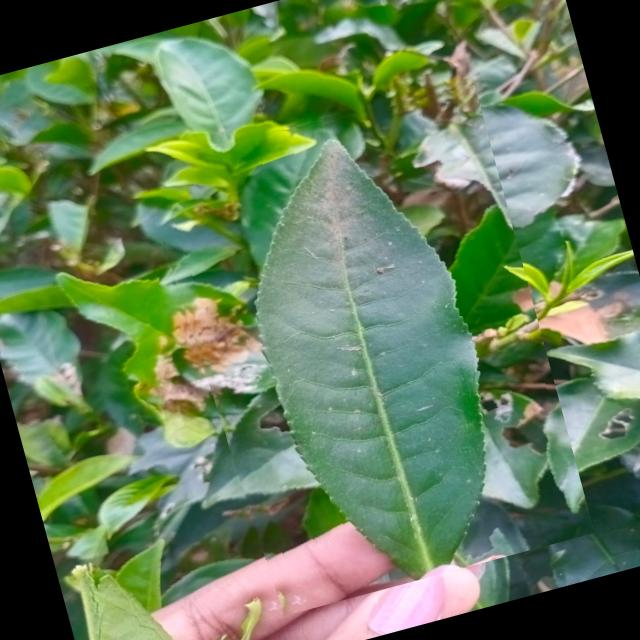Category D(7+ days, Not for Tea): (138, 74, 594, 622)
